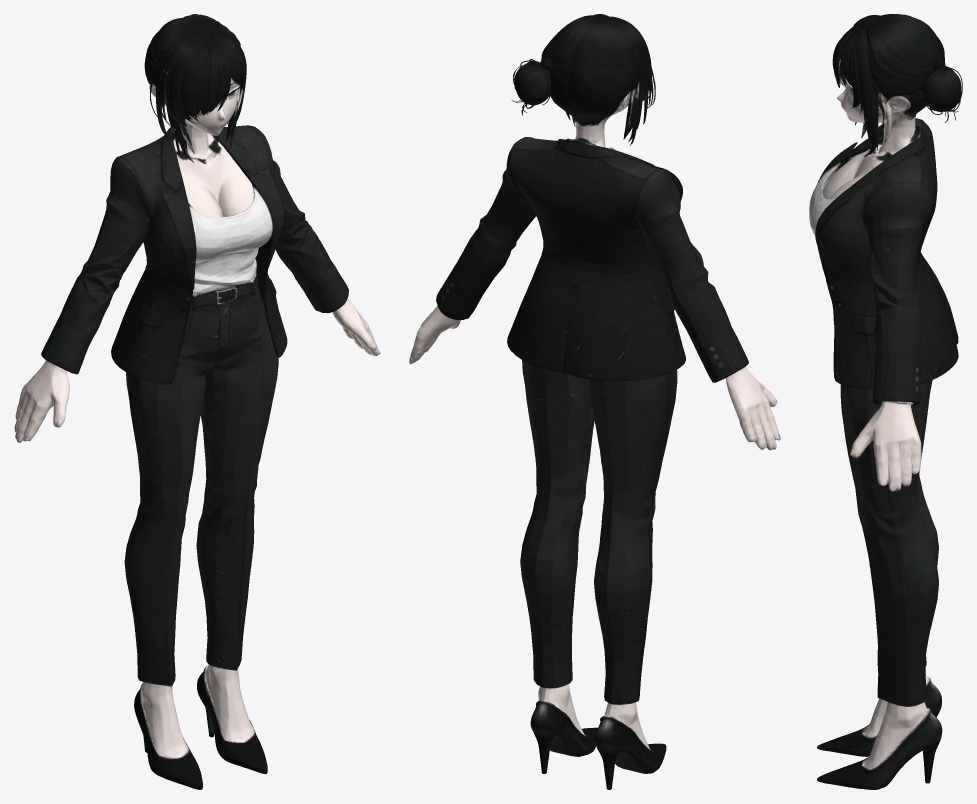
Rendered from kanatamodel.glb.
3 views of the same model, side by side, from view 1: azimuth 30°, elevation 25°; view 2: azimuth 150°, elevation 25°; view 3: azimuth 270°, elevation 25° (orthographic).
Bounding box in the file's own units: 0.9697 × 1.9 × 0.3546.
Materials: 1 (1 with a texture image).
